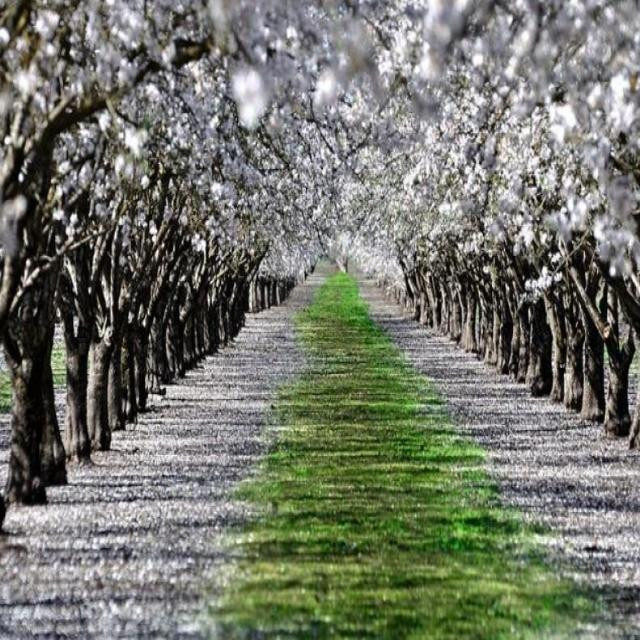row: (5, 266, 638, 639)
